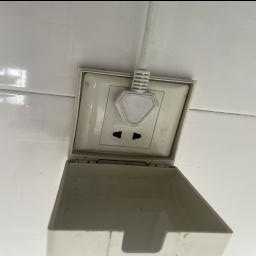outlet: (74, 64, 204, 168)
